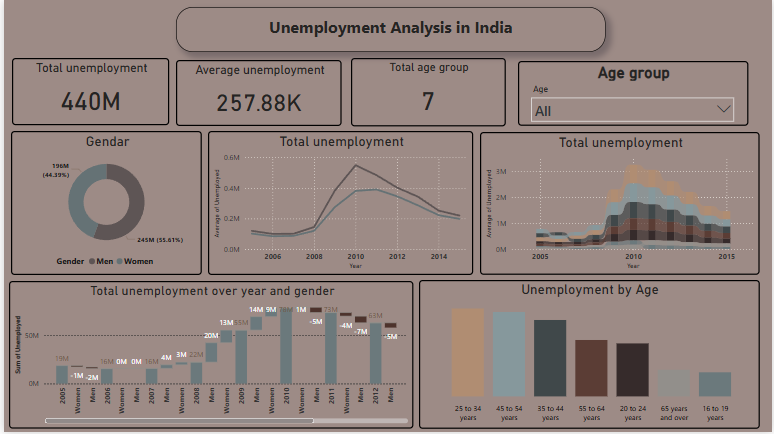

The page's visual inventory and layout, read from the dashboard file:
{"tool":"powerbi","page":{"name":"Page 1","canvas":[1280,720],"ordinal":0},"visuals":[{"type":"card","title":"Total  unemployment","fields":{"Values":["Sum(Sheet1.Unemployed)"]},"box":[14.4,102.2,260.6,112.3],"z":0},{"type":"donutChart","title":"Gendar","fields":{"Category":["Sheet1.Gender"],"Y":["Sum(Sheet1.Unemployed)"]},"box":[11.5,224.6,318.2,239],"z":1000},{"type":"slicer","title":"Age group","fields":{"Values":["Sheet1.Age"]},"box":[856.8,106.6,383,108],"z":2000},{"type":"columnChart","title":"Unemployment by Age","fields":{"Y":["Avg(Sheet1.Unemployed)"],"Category":["Sheet1.Age"],"Series":["Sheet1.Age"]},"box":[692.9,472.9,567.1,247.1],"z":3000},{"type":"card","title":"Total age group","fields":{"Values":["Count(Sheet1.Age)"]},"box":[578.9,103.7,257.8,113.8],"z":4000},{"type":"card","title":"Average unemployment","fields":{"Values":["Avg(Sheet1.Unemployed)"]},"box":[286.6,103.7,275,110.9],"z":5000},{"type":"lineChart","title":"Total  unemployment","fields":{"Y":["Avg(Sheet1.Unemployed)"],"Category":["Sheet1.Period.Variation.Date Hierarchy.Year","Sheet1.Period.Variation.Date Hierarchy.Quarter","Sheet1.Period.Variation.Date Hierarchy.Month","Sheet1.Period.Variation.Date Hierarchy.Day"],"Series":["Sheet1.Gender"]},"box":[339.8,226.1,442.1,239],"z":6000},{"type":"waterfallChart","title":"Total  unemployment over year and gender","fields":{"Category":["Sheet1.Period.Variation.Date Hierarchy.Year"],"Y":["Sum(Sheet1.Unemployed)"],"Breakdown":["Sheet1.Gender"]},"box":[8.6,473.8,673.9,239],"z":7000},{"type":"textbox","box":[286.6,11.5,715.7,74.9],"z":9000},{"type":"ribbonChart","title":"Total  unemployment","fields":{"Category":["Sheet1.Period.Variation.Date Hierarchy.Year","Sheet1.Period.Variation.Date Hierarchy.Quarter","Sheet1.Period.Variation.Date Hierarchy.Month","Sheet1.Period.Variation.Date Hierarchy.Day"],"Y":["Avg(Sheet1.Unemployed)"],"Series":["Sheet1.Age"]},"box":[793.4,226.1,466.6,237.6],"z":9001}]}

Visuals, with their boxes in screenshot pixels (x1, y1, x2, y2), scaled from the page's 1280x720 canvas onto the 774x434 screenshot:
"Total  unemployment" card: x1=9, y1=62, x2=166, y2=129
"Gendar" donutChart: x1=7, y1=135, x2=199, y2=279
"Age group" slicer: x1=518, y1=64, x2=750, y2=129
"Unemployment by Age" columnChart: x1=419, y1=285, x2=762, y2=433
"Total age group" card: x1=350, y1=63, x2=506, y2=131
"Average unemployment" card: x1=173, y1=63, x2=340, y2=129
"Total  unemployment" lineChart: x1=205, y1=136, x2=473, y2=280
"Total  unemployment over year and gender" waterfallChart: x1=5, y1=286, x2=413, y2=430
textbox: x1=173, y1=7, x2=606, y2=52
"Total  unemployment" ribbonChart: x1=480, y1=136, x2=762, y2=280
